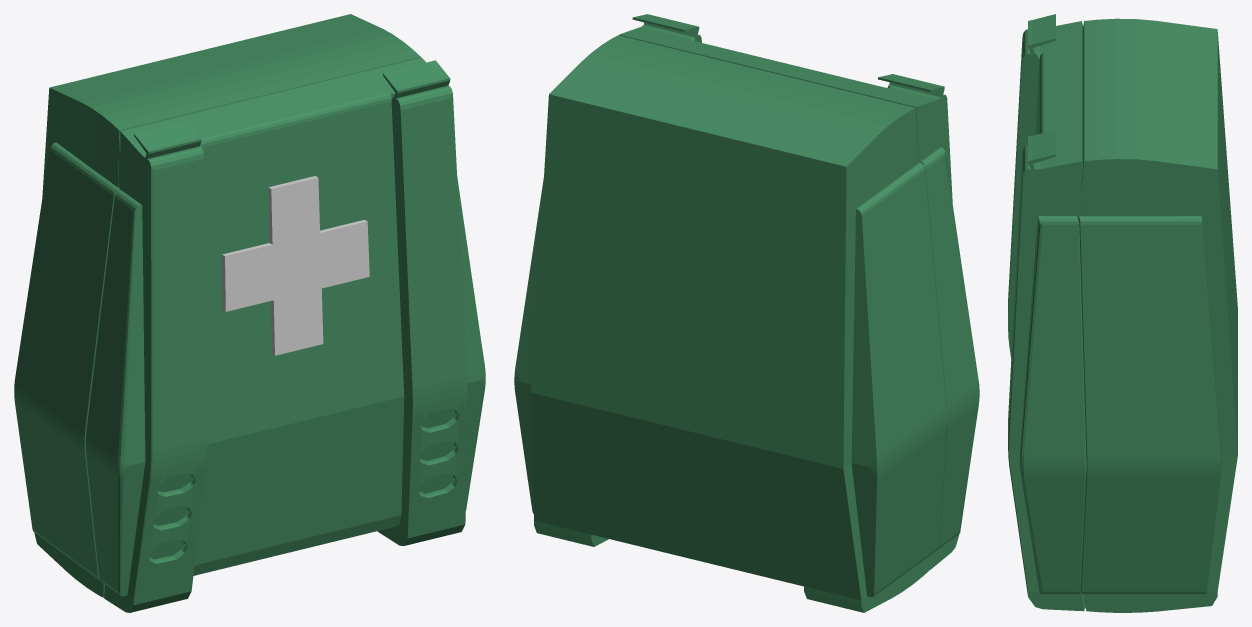
File: firstaidbox2.fbx
3 views of the same model, side by side, from view 1: azimuth 30°, elevation 25°; view 2: azimuth 150°, elevation 25°; view 3: azimuth 270°, elevation 25° (orthographic). The views are drawn at different scales.
Parts seen in each view (by area): view 1: Cube; view 2: Cube; view 3: Cube.
Part boxes in pixels (<box>): Cube: <box>14,14,485,612</box>; Cube: <box>514,14,979,612</box>; Cube: <box>1008,14,1237,612</box>.
Size of the model in its own units: 3.1 by 3.83 by 1.76.
